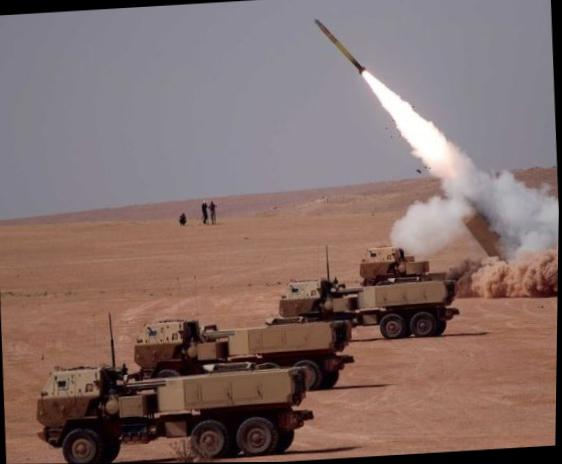truck: (32, 351, 317, 464), (130, 306, 357, 399), (264, 266, 461, 346)
